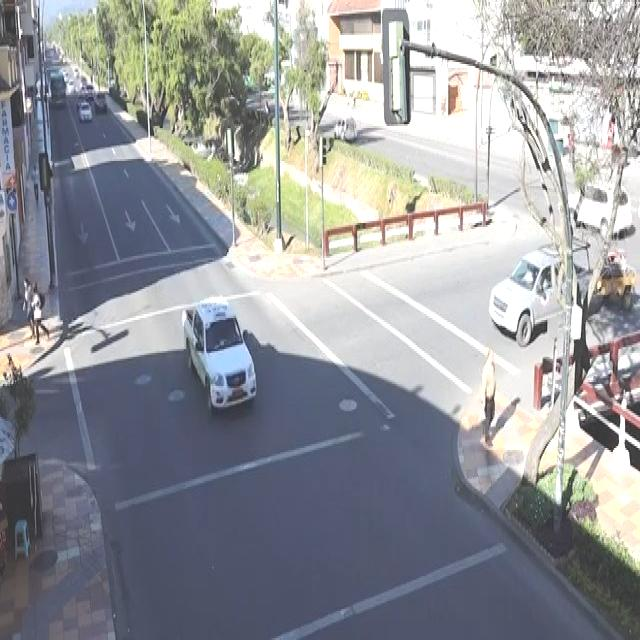CMT: (490, 246, 599, 342), (182, 298, 258, 409)
